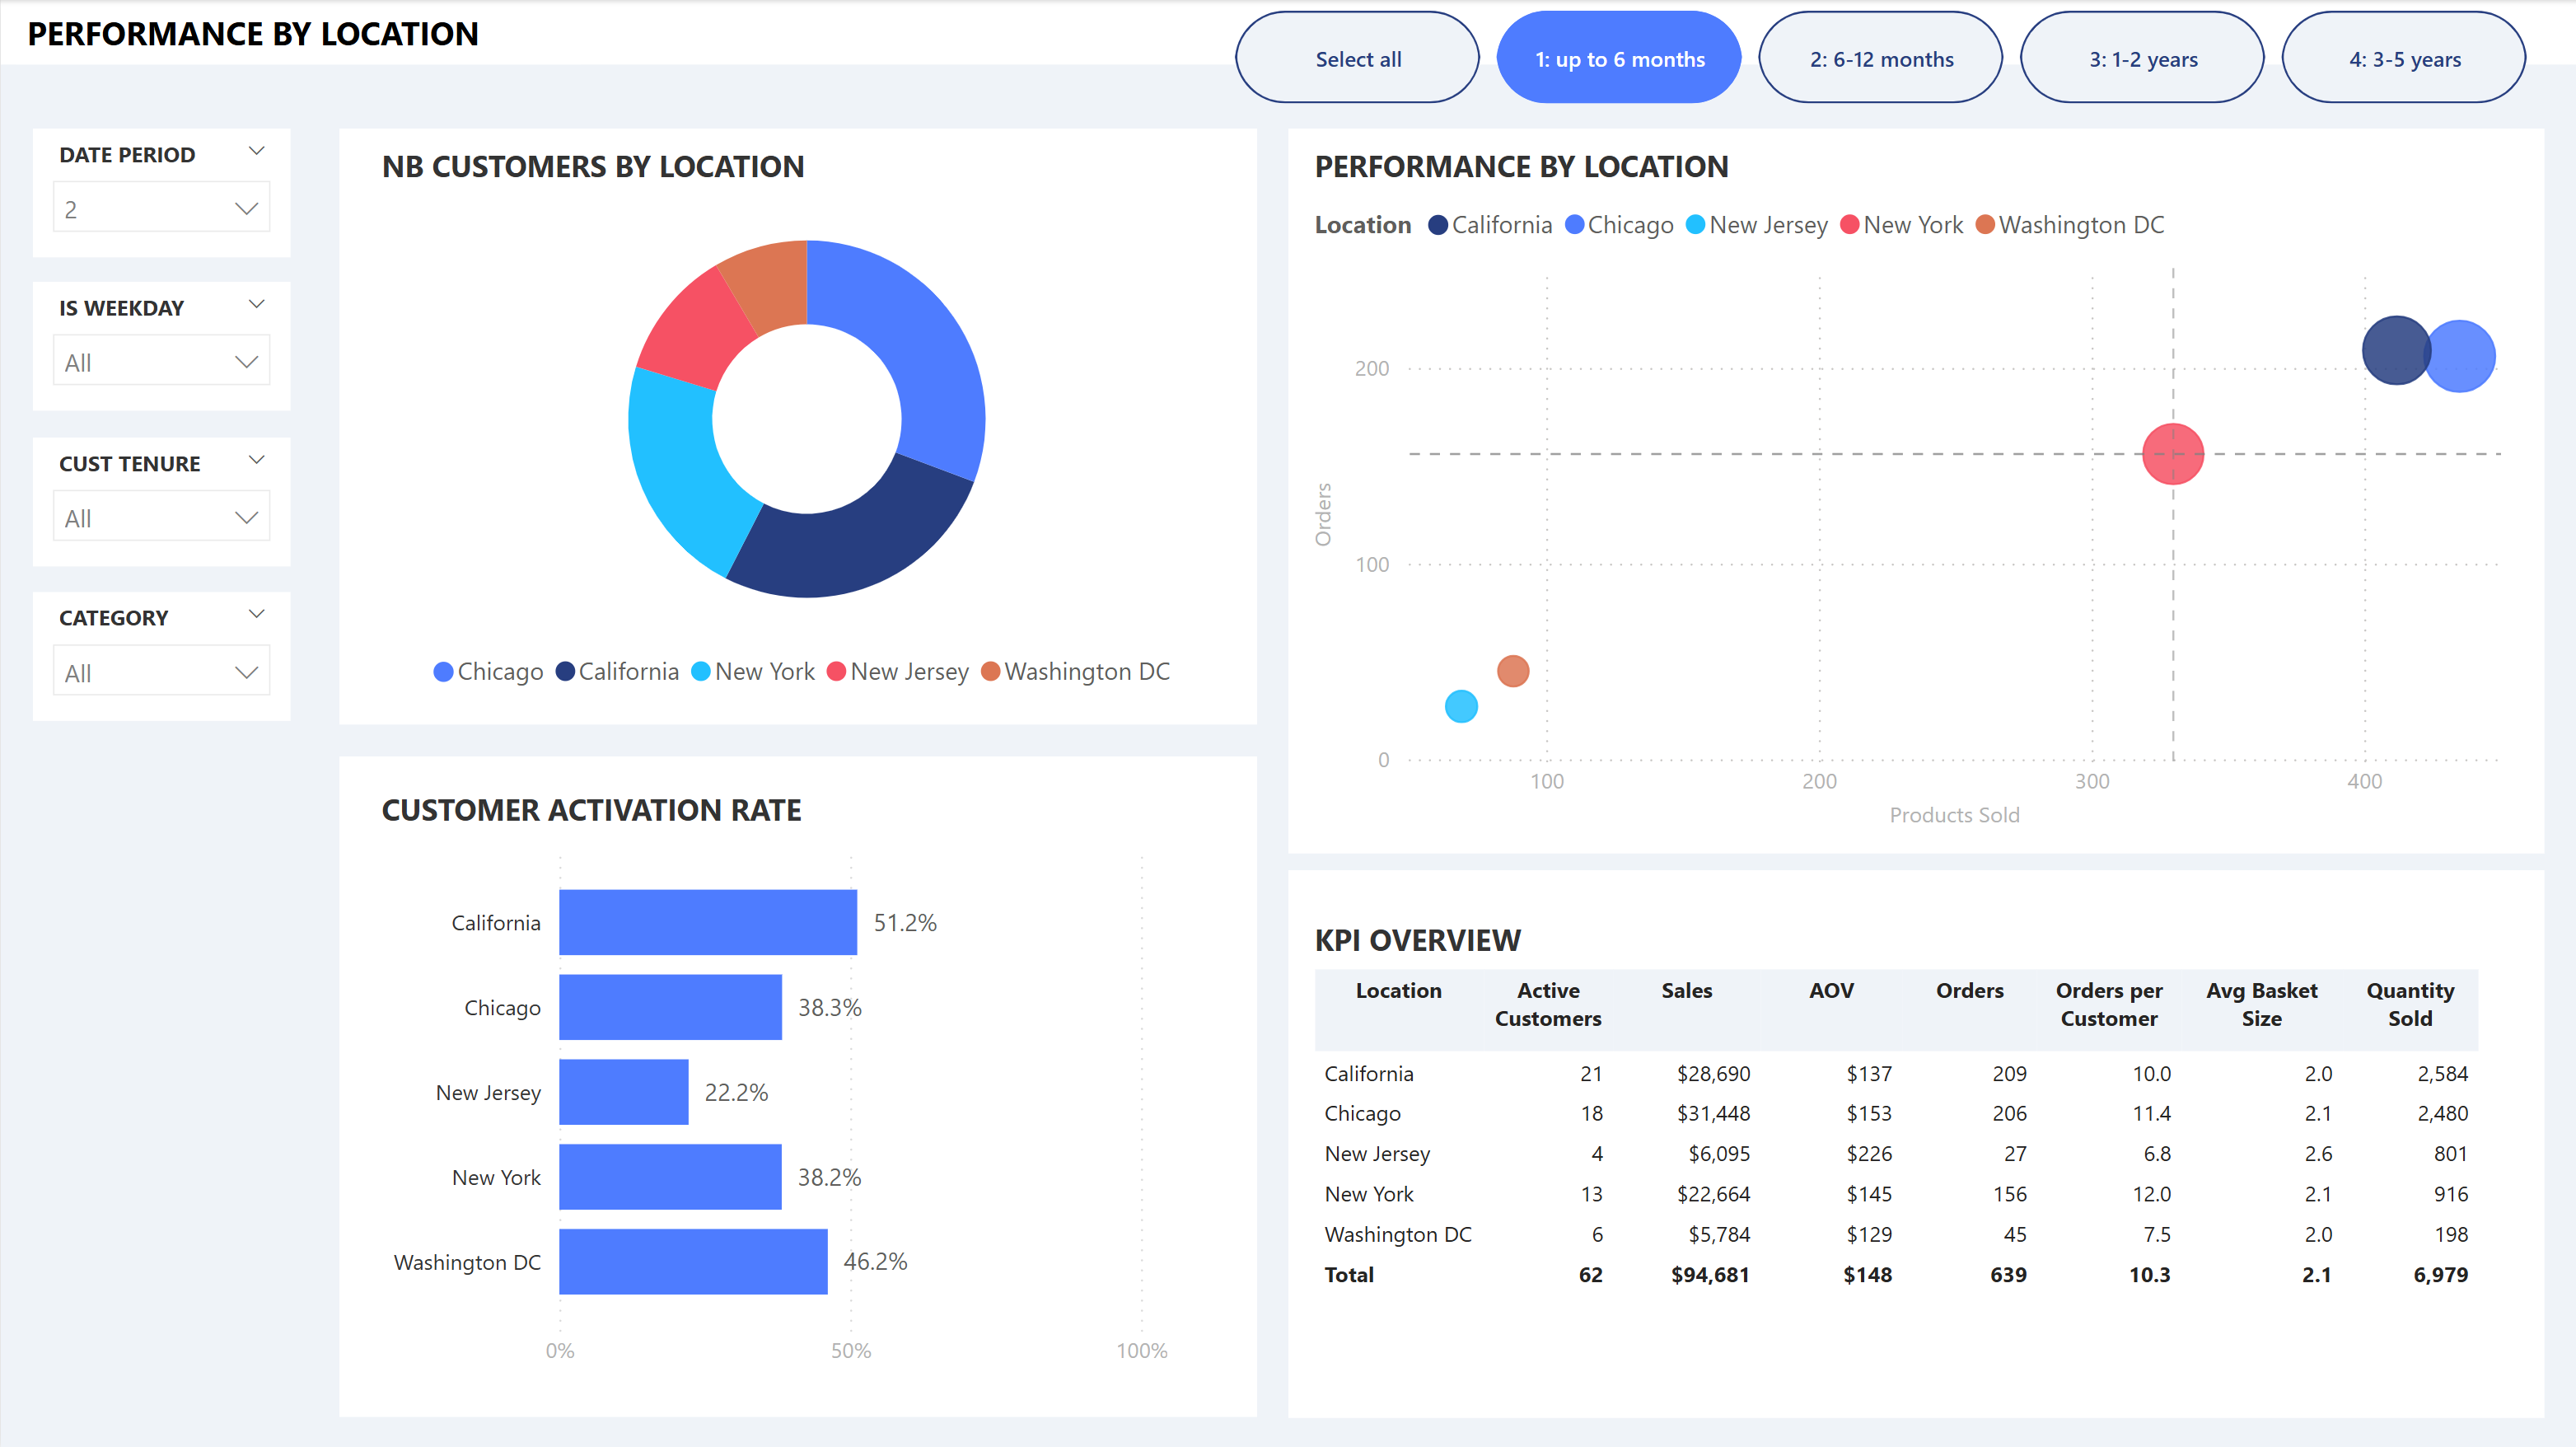

What the dashboard file says about the page in this screenshot:
{"tool":"powerbi","page":{"name":"Location","canvas":[1280,720],"ordinal":2},"visuals":[{"type":"shape","box":[0,0,1280,32],"z":0},{"type":"shape","box":[640,64,624,360],"z":1000},{"type":"shape","box":[168,376,456,328],"z":2000},{"type":"shape","box":[168,64,456,296],"z":3000},{"type":"textbox","box":[8,0,280,32],"z":4000},{"type":"slicer","fields":{"Values":["Date.Quarter","Date.Month Name"]},"box":[16,64,128,64],"z":5000},{"type":"slicer","fields":{"Values":["Date.Is Weekend"]},"box":[16.2,139.7,128,64],"z":6000},{"type":"slicer","fields":{"Values":["D_Customers.Tenure Intervals"]},"box":[16.2,217,128,64],"z":7000},{"type":"slicer","fields":{"Values":["F_Online_Sales.Product_Category"]},"box":[16.2,294.4,128,64],"z":8000},{"type":"clusteredBarChart","title":"CUSTOMER ACTIVATION RATE","fields":{"Category":["D_Customers.Location"],"Y":["Measures_Table.% Active Customer Base"]},"box":[184,392,400,296],"z":9000},{"type":"scatterChart","title":"PERFORMANCE BY LOCATION","fields":{"Y":["Measures_Table.Orders"],"X":["Measures_Table.Products Sold"],"Series":["D_Customers.Location"],"Size":["Measures_Table.Sales"]},"box":[648,72,608,344],"z":10000},{"type":"donutChart","title":"NB CUSTOMERS BY LOCATION","fields":{"Y":["Measures_Table.All Customers"],"Category":["D_Customers.Location"]},"box":[184,72,432,280],"z":11000},{"type":"shape","box":[640,432,624,272],"z":12000},{"type":"pivotTable","title":"KPI OVERVIEW","fields":{"Values":["Measures_Table.Active Customers","Measures_Table.Sales Amount","Measures_Table.AOV","Measures_Table.Orders","Measures_Table.Orders per Customer","Measures_Table.Avg Basket Size","Measures_Table.Quantity Sold"],"Rows":["D_Customers.Location"]},"box":[648,456,608,232],"z":13000},{"type":"advancedSlicerVisual","fields":{"Values":["D_Customers.Tenure Intervals"]},"box":[608,0,656,56],"z":14000}]}

Visuals, with their boxes in screenshot pixels (x1, y1, x2, y2), scaled from the page's 1280x720 canvas onto the 2576x1447 screenshot:
shape: (0,0,2575,64)
shape: (1288,129,2544,852)
shape: (338,756,1255,1415)
shape: (338,129,1255,723)
textbox: (16,0,580,64)
slicer - Date.Quarter x Date.Month Name: (32,129,290,257)
slicer - Date.Is Weekend: (33,281,290,410)
slicer - D_Customers.Tenure Intervals: (33,436,290,564)
slicer - F_Online_Sales.Product_Category: (33,592,290,720)
"CUSTOMER ACTIVATION RATE" clusteredBarChart: (371,788,1176,1383)
"PERFORMANCE BY LOCATION" scatterChart: (1304,145,2527,836)
"NB CUSTOMERS BY LOCATION" donutChart: (371,145,1240,707)
shape: (1288,869,2544,1415)
"KPI OVERVIEW" pivotTable: (1304,916,2527,1383)
advancedSlicerVisual - D_Customers.Tenure Intervals: (1223,0,2544,113)
